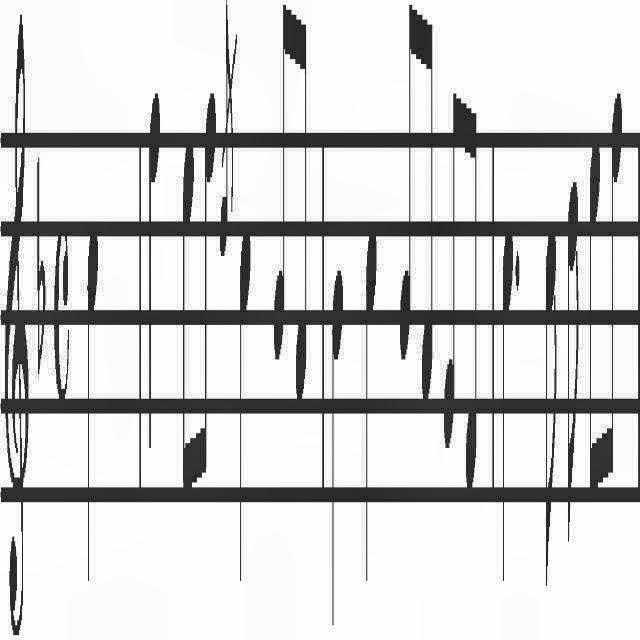Bass-clef: (0, 15, 32, 640)
Bemol: (33, 138, 51, 454)
Eighth-note: (294, 4, 314, 440), (270, 0, 290, 386), (464, 75, 480, 557), (606, 63, 622, 517), (564, 135, 580, 581), (180, 103, 196, 541), (202, 55, 216, 549), (542, 195, 560, 575), (420, 1, 436, 423), (587, 76, 601, 536), (398, 4, 414, 374), (444, 64, 456, 500)
Quarter-note: (81, 199, 106, 640), (238, 195, 255, 621), (146, 68, 162, 500), (363, 211, 377, 627), (329, 238, 343, 640), (499, 209, 513, 581)
